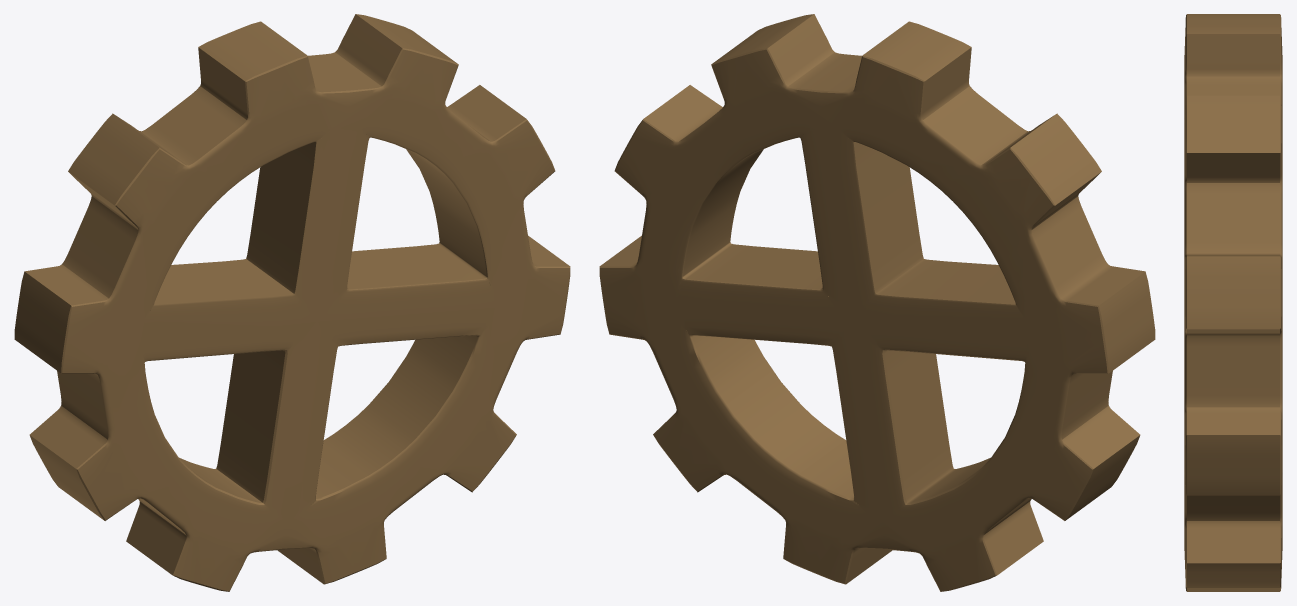
The model's file is cogDesignPlus.fbx.
The picture shows the model from 3 angles, left to right: view 1: azimuth 30°, elevation 25°; view 2: azimuth 150°, elevation 25°; view 3: azimuth 270°, elevation 25°; orthographic projection.
Parts seen in each view (by area): view 1: cogDesignPlus; view 2: cogDesignPlus; view 3: cogDesignPlus.
Boxes of the visible parts, x1,y1,x2,y2 form: cogDesignPlus: (14,14,570,591); cogDesignPlus: (599,14,1155,591); cogDesignPlus: (1184,14,1282,591).
Bounding box in the file's own units: 174 × 174 × 29.29.
